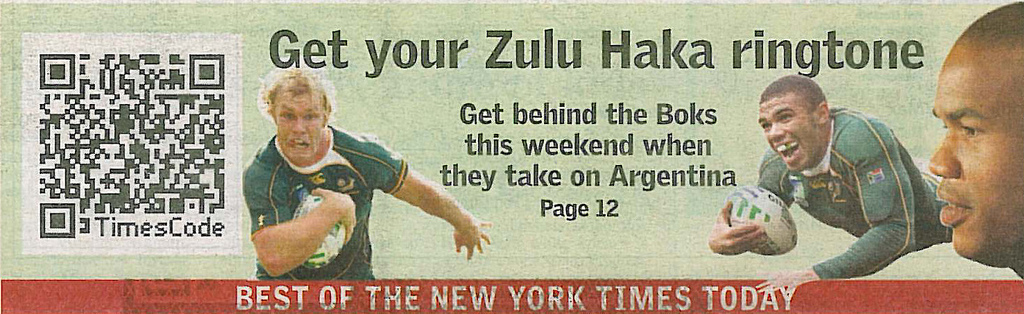QR-CODE: (40, 54, 224, 238)
